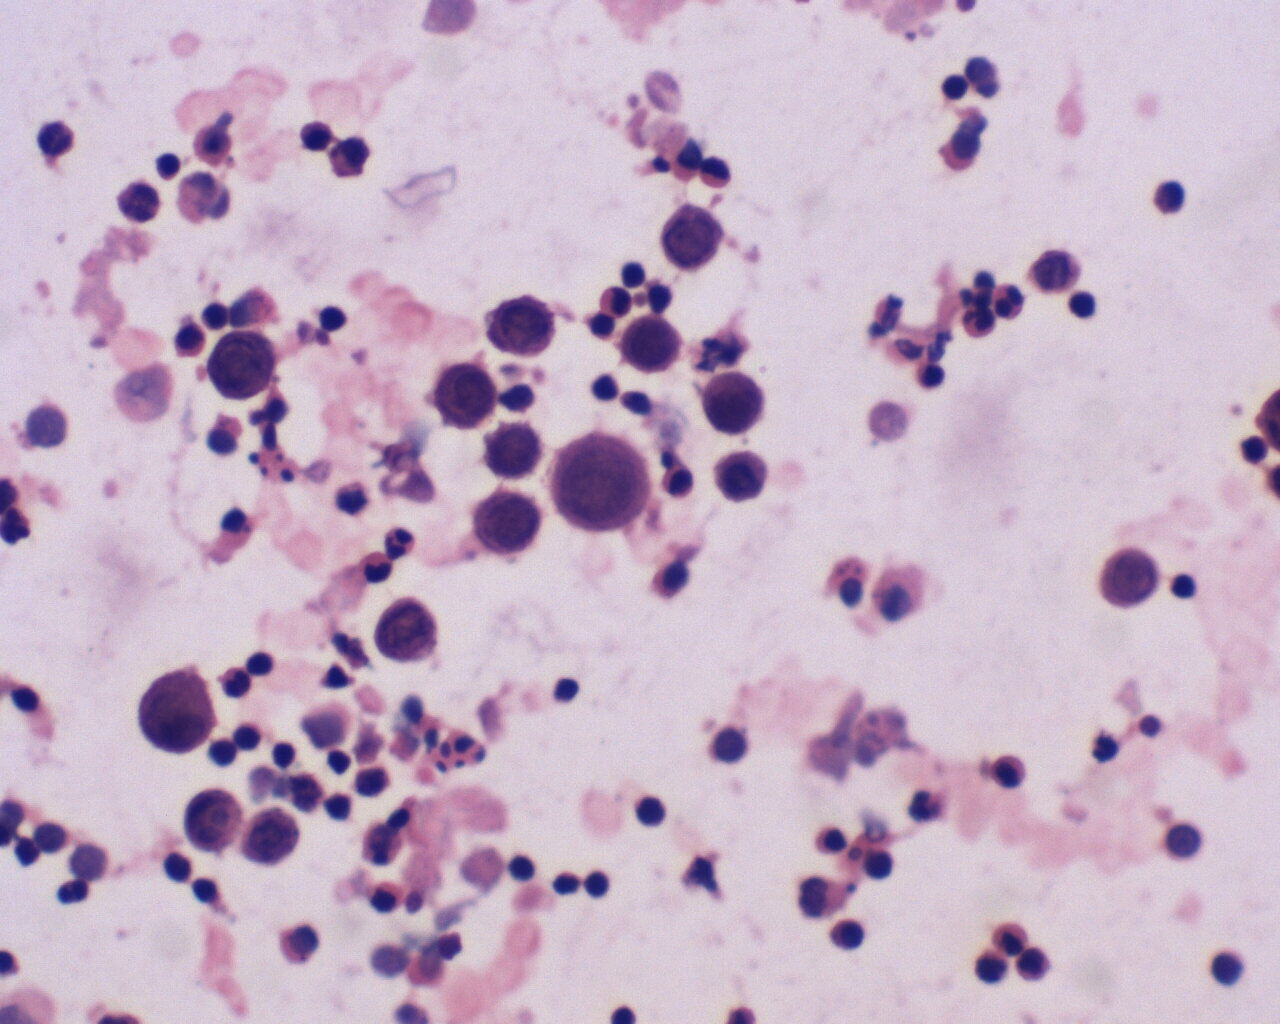ab: (545, 430, 654, 536), (133, 659, 218, 758), (467, 488, 546, 560), (206, 328, 281, 400), (660, 197, 726, 277), (487, 290, 562, 359), (374, 594, 441, 667), (422, 358, 492, 424), (1099, 543, 1162, 616), (621, 313, 685, 378), (702, 373, 767, 437), (481, 417, 542, 481), (239, 807, 300, 870), (712, 449, 775, 508)
lymph: (242, 643, 284, 681), (636, 791, 674, 833), (1058, 286, 1103, 321), (546, 674, 588, 711), (316, 303, 357, 340), (938, 67, 977, 106), (158, 850, 197, 887), (503, 850, 538, 889), (832, 912, 866, 953), (578, 867, 614, 905)
neutro: (956, 305, 997, 340), (385, 526, 418, 561)
